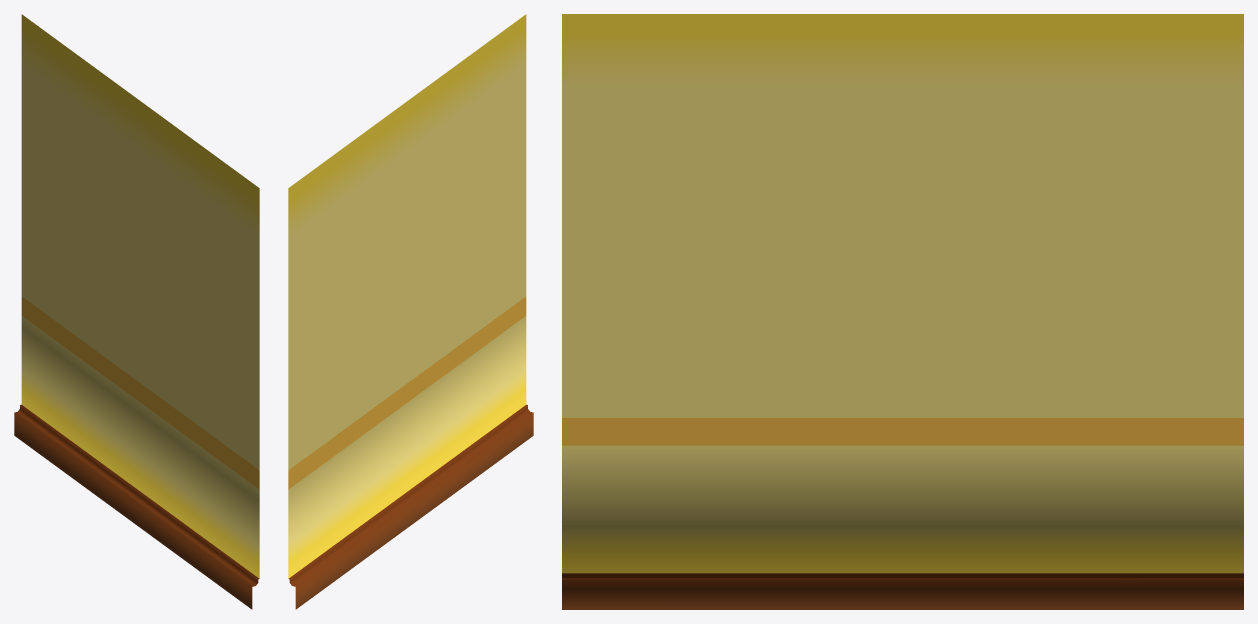
File: ST_RegularWall.fbx
3 views of the same model, side by side, from view 1: azimuth 30°, elevation 25°; view 2: azimuth 150°, elevation 25°; view 3: azimuth 270°, elevation 25° (orthographic). The views are drawn at different scales.
Visible parts, largest first — view 1: ST_RegularWal; view 2: ST_RegularWal; view 3: ST_RegularWal.
Part boxes in pixels (left/top/right/bottom): ST_RegularWal: left=14, top=14, right=259, bottom=609; ST_RegularWal: left=288, top=14, right=533, bottom=609; ST_RegularWal: left=562, top=14, right=1243, bottom=609.
Bounding box in the file's own units: 3.55 × 195 × 200.
